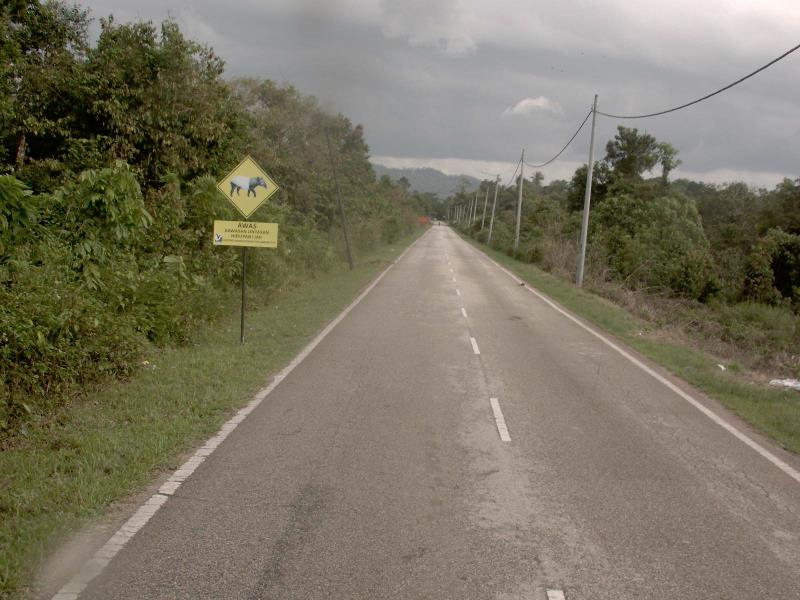traffic_sign: (205, 147, 288, 221)
